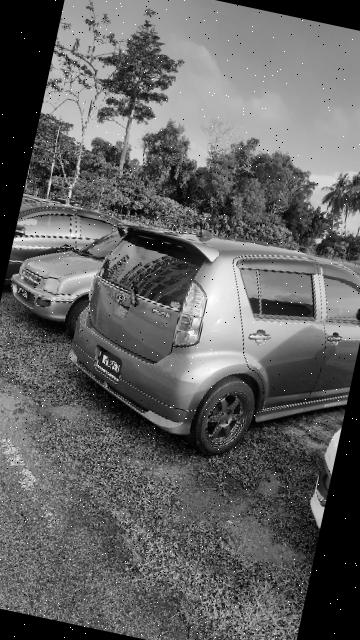License_Plate: (85, 342, 137, 390), (11, 283, 40, 305)
car: (55, 203, 360, 473), (1, 208, 177, 349)
